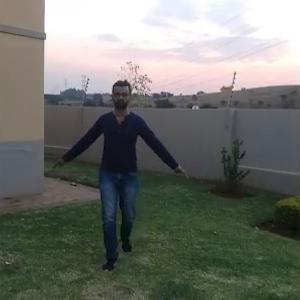land: (59, 66, 214, 285)
